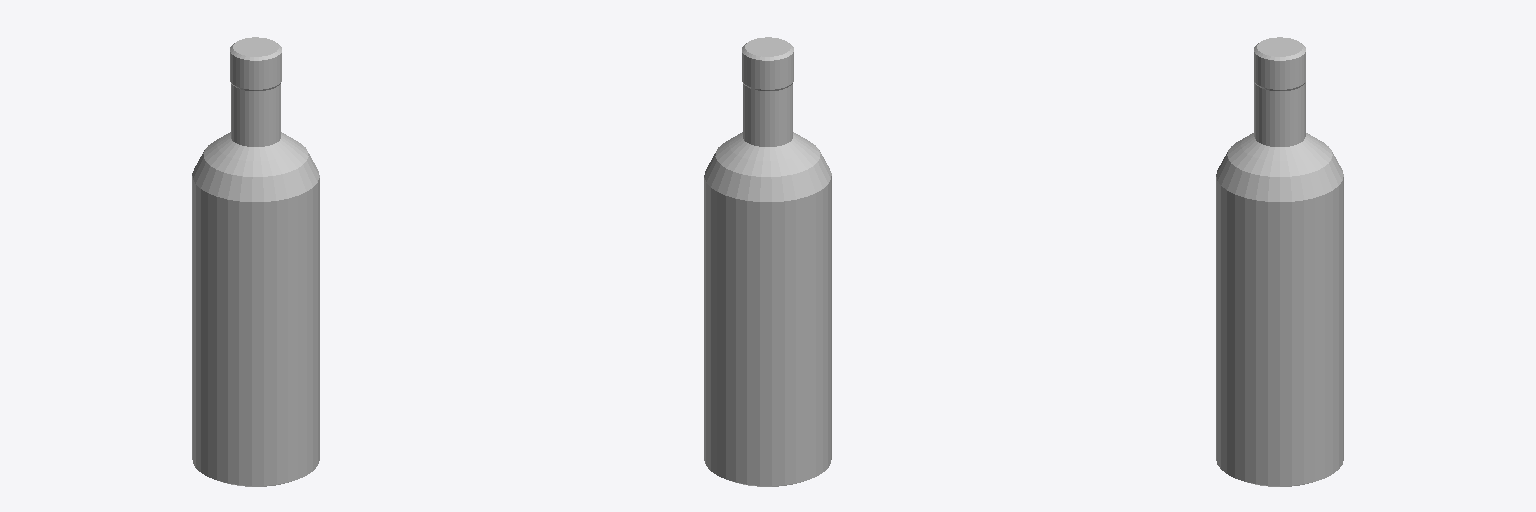
The model's file is wine.obj.
3 renders of one model, left to right at view 1: azimuth 30°, elevation 25°; view 2: azimuth 150°, elevation 25°; view 3: azimuth 270°, elevation 25°, orthographic.
Parts seen in each view (by area): view 1: Cylinder; view 2: Cylinder; view 3: Cylinder.
Part boxes in pixels (x1,y1,x2,y2): Cylinder: (192,37,319,486); Cylinder: (704,37,831,486); Cylinder: (1216,37,1343,486).
Bounding box in the file's own units: 2 × 7.22 × 2.